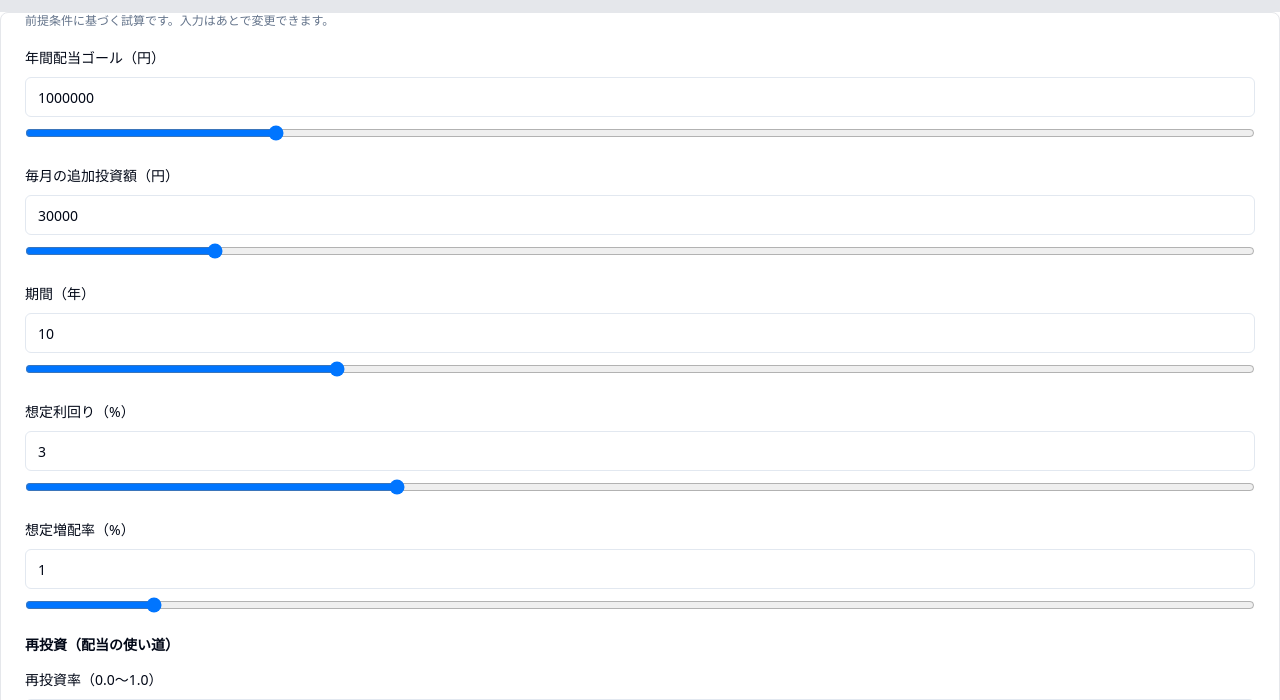
RoadmapForm › 数値入力とスライダーが同期する
The image size is (1280, 700).
Replace the text in the number field labelled "年間配当ゴール（円）" with "2000000" at (640, 97), box [25,77,1255,117]
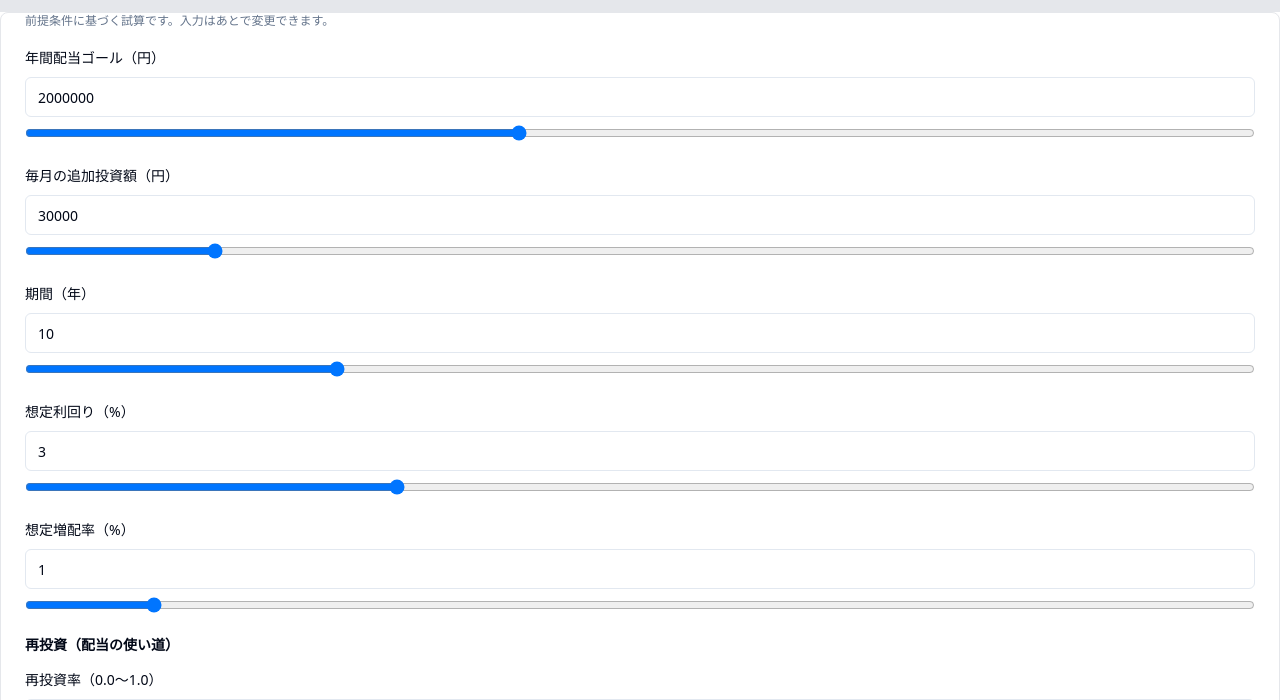
expect the slider named "年間配当ゴールスライダー" holds "2000000": met
Set the slider named "年間配当ゴールスライダー" to "1500000" at (397, 133), box [25,125,1255,141]
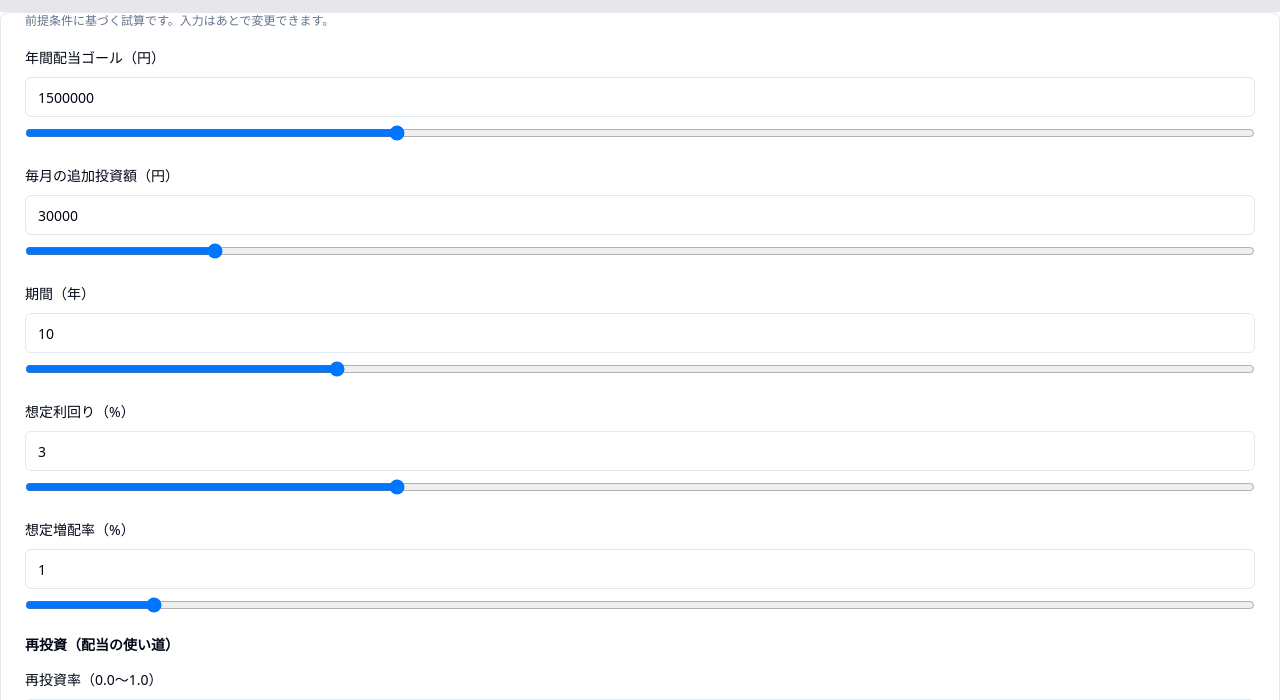
expect the number field labelled "年間配当ゴール（円）" holds "1500000": met, box [25,77,1255,117]
